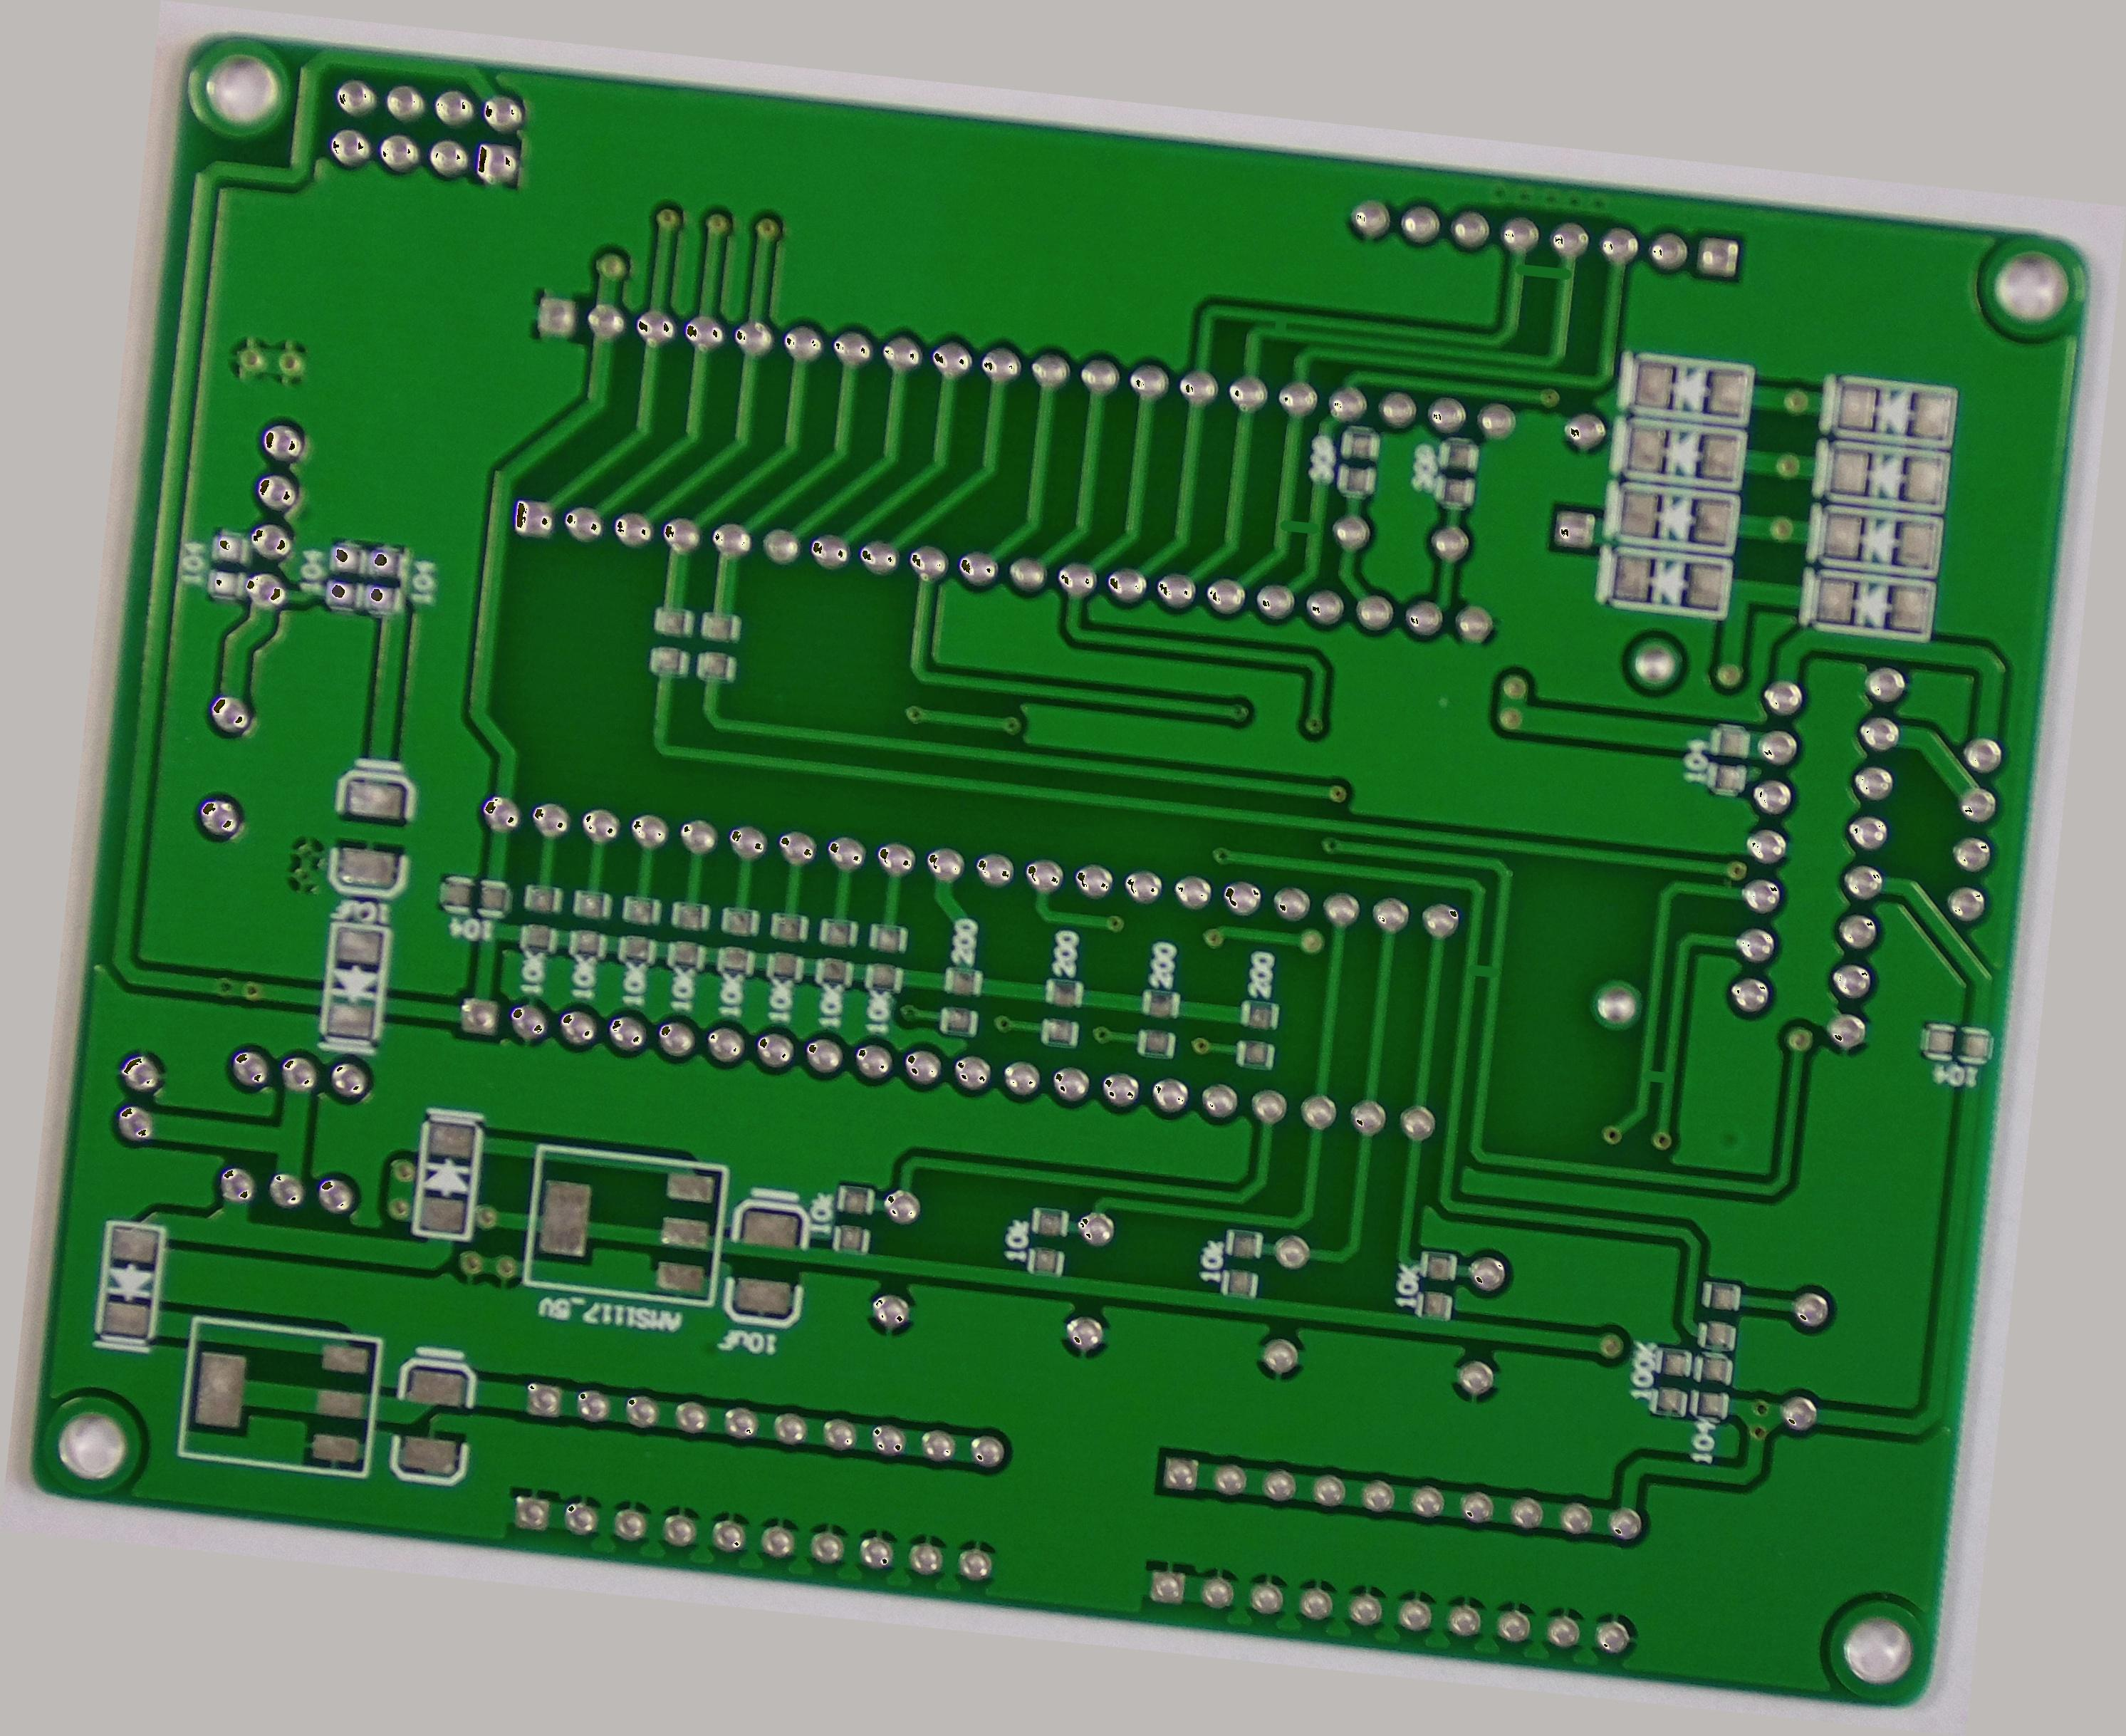short: (1499, 244, 1582, 295), (1264, 500, 1328, 555), (1453, 945, 1510, 996), (1252, 300, 1305, 348), (1628, 1049, 1681, 1097)
